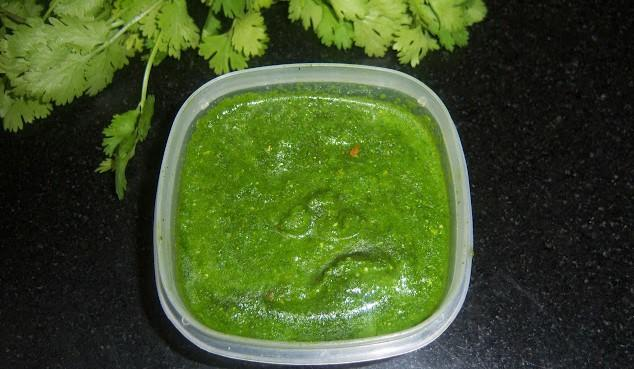GreenChutney: (173, 94, 451, 342)
